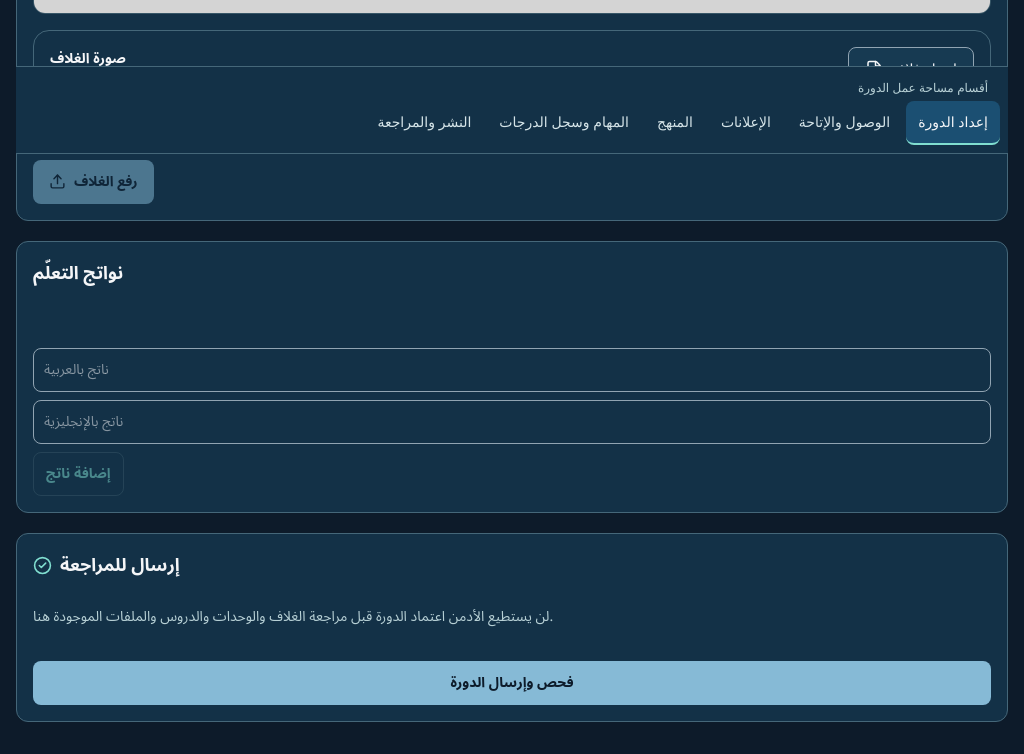
Test case: teacher coursework/review ar (mocked UI contracts) › retains known course validation mapping and unknown server reasons
This screenshot has width=1024, height=754.
(page scrolled)
Click the button "فحص وإرسال الدورة": (512, 683) left=33, top=661, right=991, bottom=705
(page scrolled)
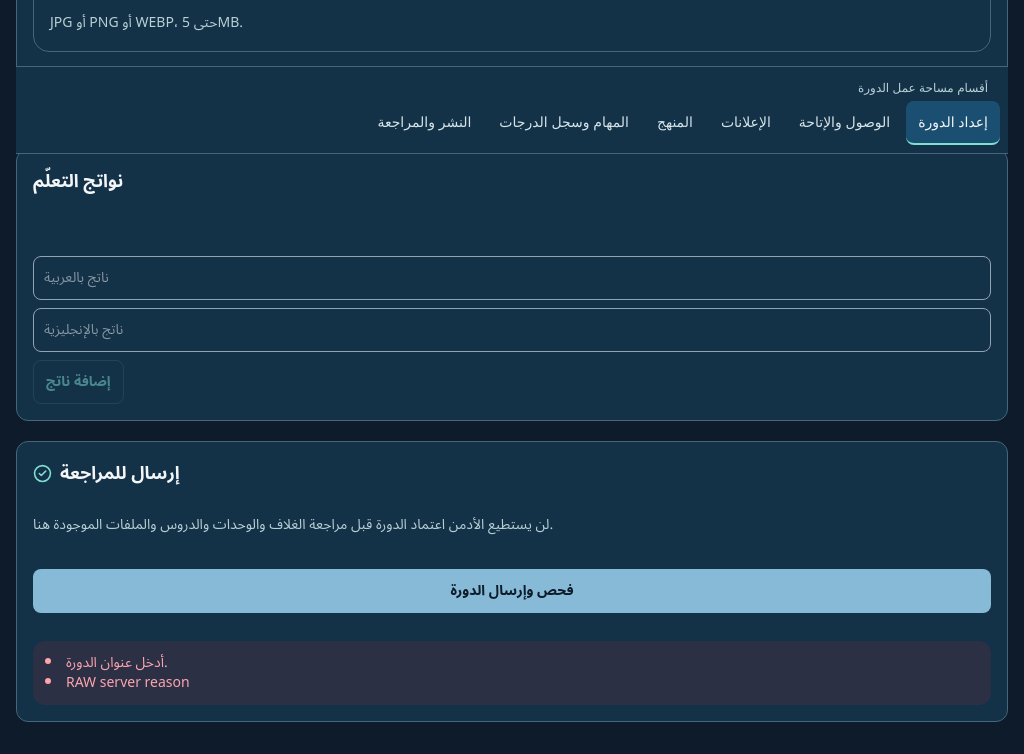
Now the list item "RAW server reason" is shown, box left=66, top=668, right=190, bottom=697
Now the list item "أدخل عنوان الدورة." is shown, box left=66, top=648, right=168, bottom=677
